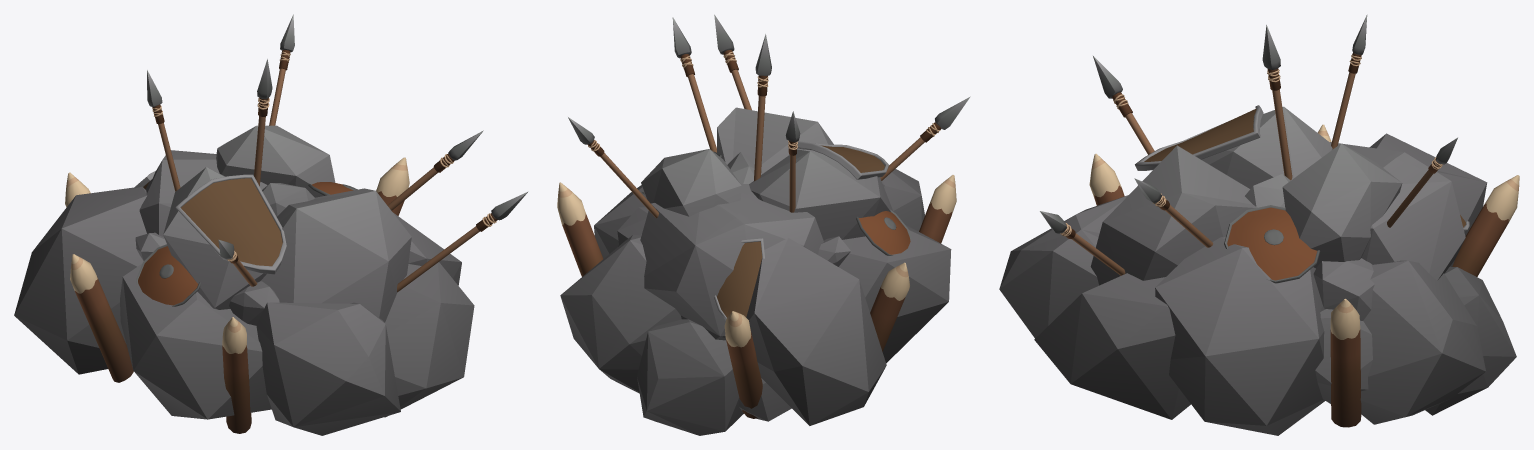
File: FighStack_1.fbx
3 renders of one model, left to right at view 1: azimuth 30°, elevation 25°; view 2: azimuth 150°, elevation 25°; view 3: azimuth 270°, elevation 25°, orthographic. The views are drawn at different scales.
Parts seen in each view (by area): view 1: FighStack_1; view 2: FighStack_1; view 3: FighStack_1.
Part boxes in pixels (left/top/right/bottom): FighStack_1: left=14, top=14, right=528, bottom=435; FighStack_1: left=557, top=14, right=970, bottom=435; FighStack_1: left=999, top=14, right=1519, bottom=435.
Size of the model in its own units: 282 by 259 by 329.
